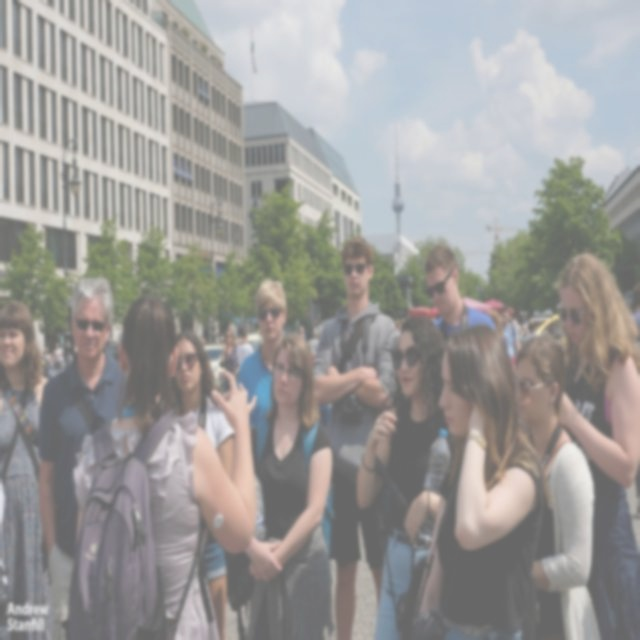pessoa: (62, 292, 260, 639), (402, 321, 553, 638), (311, 232, 400, 640), (354, 313, 457, 639), (36, 275, 128, 639), (554, 253, 640, 639), (242, 330, 336, 640), (513, 332, 602, 640), (166, 328, 238, 640), (0, 299, 55, 639), (235, 279, 331, 473), (423, 242, 498, 342), (498, 304, 522, 374), (218, 328, 240, 392), (510, 313, 547, 338), (234, 326, 253, 368), (630, 280, 640, 344), (308, 327, 320, 367), (41, 346, 53, 380), (52, 342, 62, 379), (44, 349, 56, 376), (392, 316, 412, 332), (60, 349, 74, 368), (214, 330, 226, 346), (298, 324, 308, 342), (232, 337, 240, 353), (308, 336, 314, 355), (200, 333, 206, 348), (312, 326, 318, 330), (312, 329, 314, 336)
